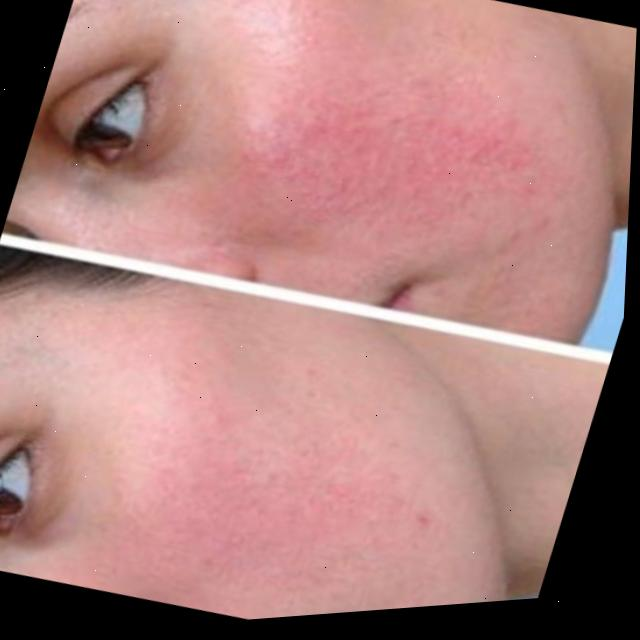Rosacea: (209, 0, 568, 269), (108, 365, 445, 624)
